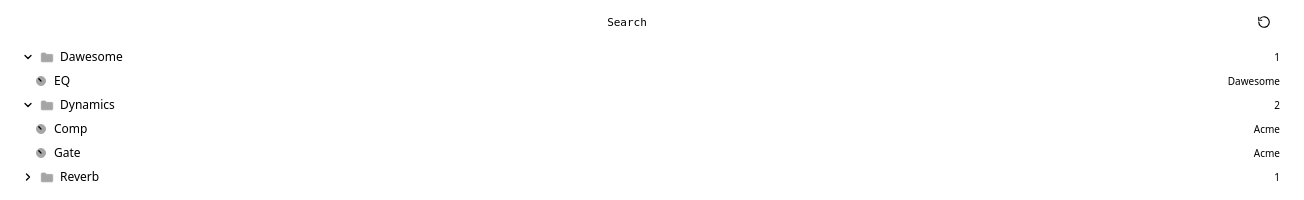
Test: the Effects page › lists Dawesome’s own effects first, in a folder that starts open
Later steps or results of the test are not shown.
and closes like any other
Click the list item "Dawesome 1".
click(91, 56)  # box 12,45 -> 1292,69
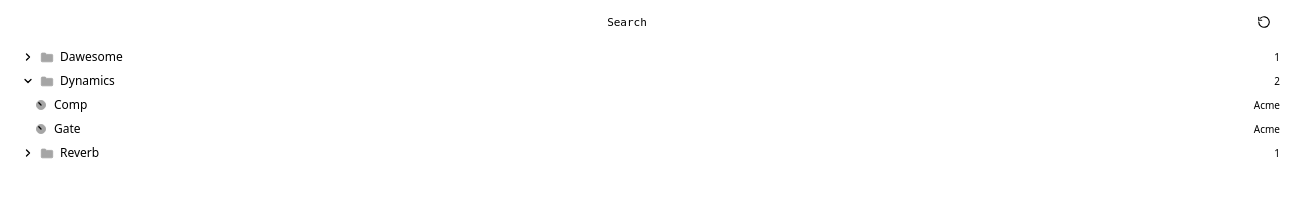
Expected: the list item "EQ" is gone
